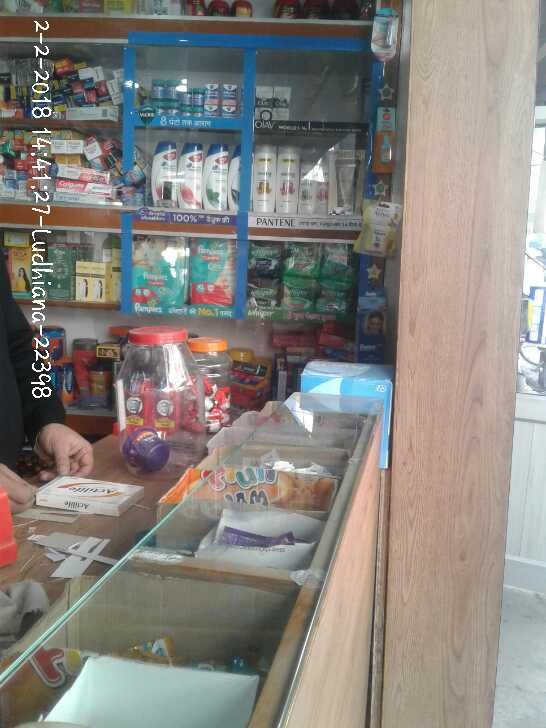vicks: (149, 75, 241, 119)
